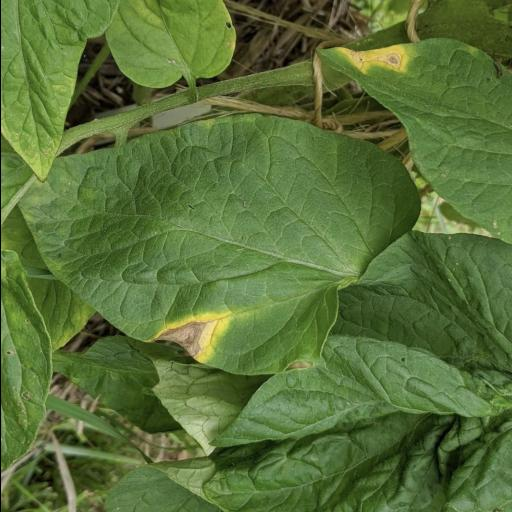Early Blight: (19, 112, 423, 374)
